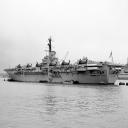Portanaves: (4, 35, 125, 86)
